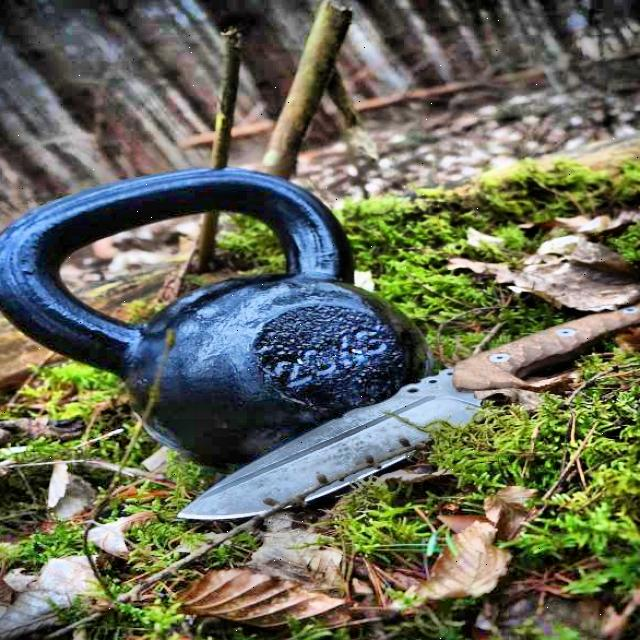knife: (167, 287, 640, 528)
